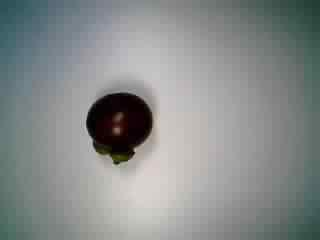mangosteen: (81, 88, 157, 165)
